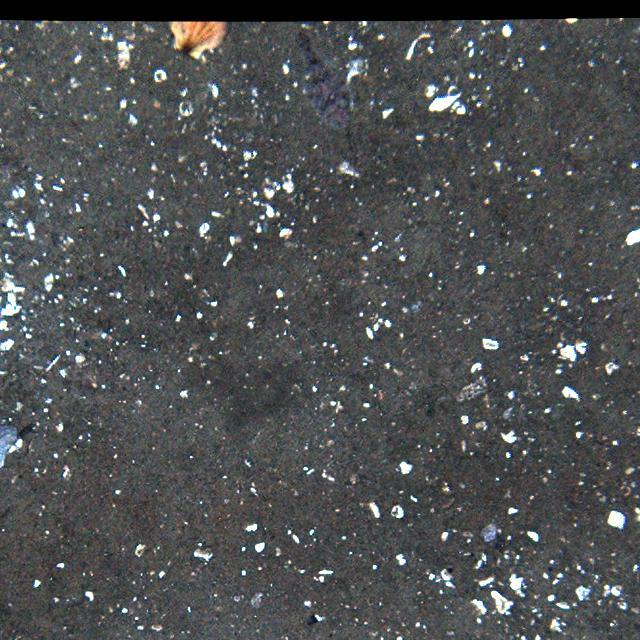flatfish: (290, 30, 356, 134)
